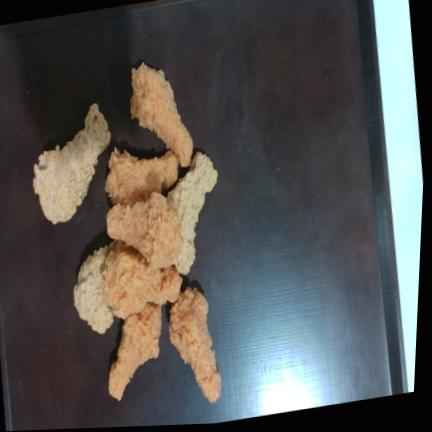chicken: (33, 103, 110, 222), (130, 62, 193, 166), (166, 151, 217, 274), (103, 240, 182, 318), (169, 287, 221, 402), (106, 192, 184, 267), (108, 302, 161, 399), (105, 147, 178, 204), (73, 241, 116, 333)
